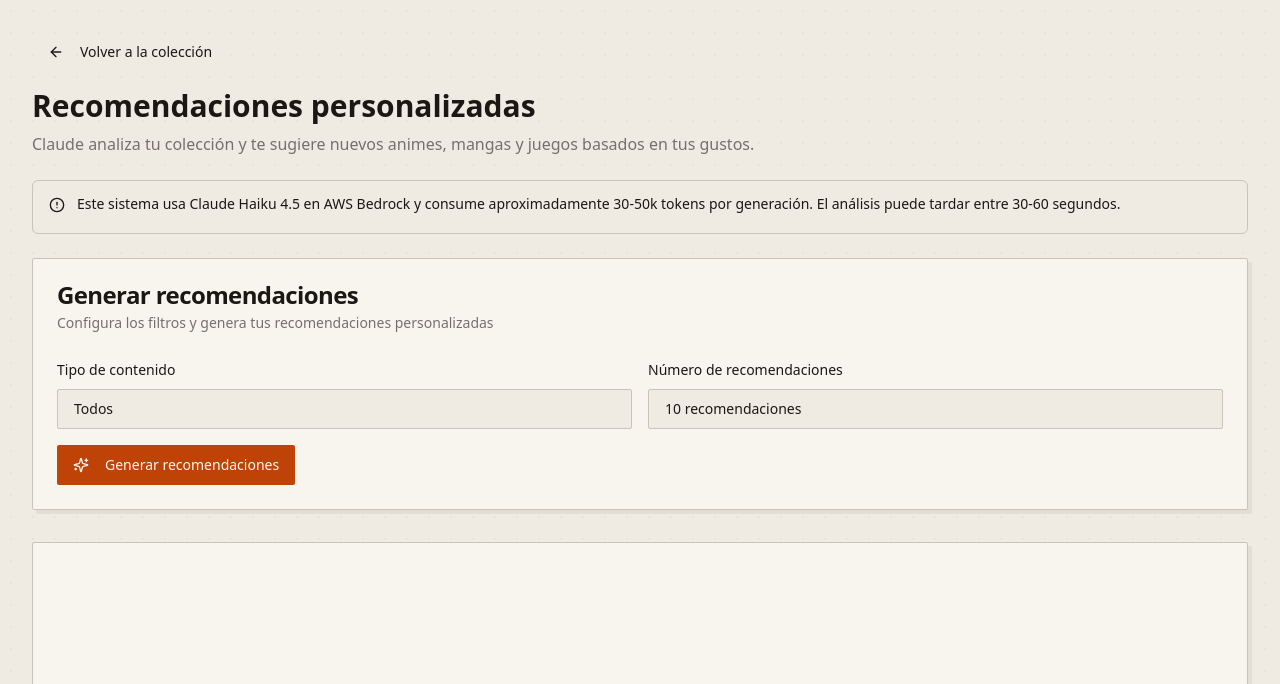
RecommendationsPage › success state renderiza grid + metadata
This screenshot has width=1280, height=684.
Click the button "Generar recomendaciones" at (176, 465), box [57,445,295,485]
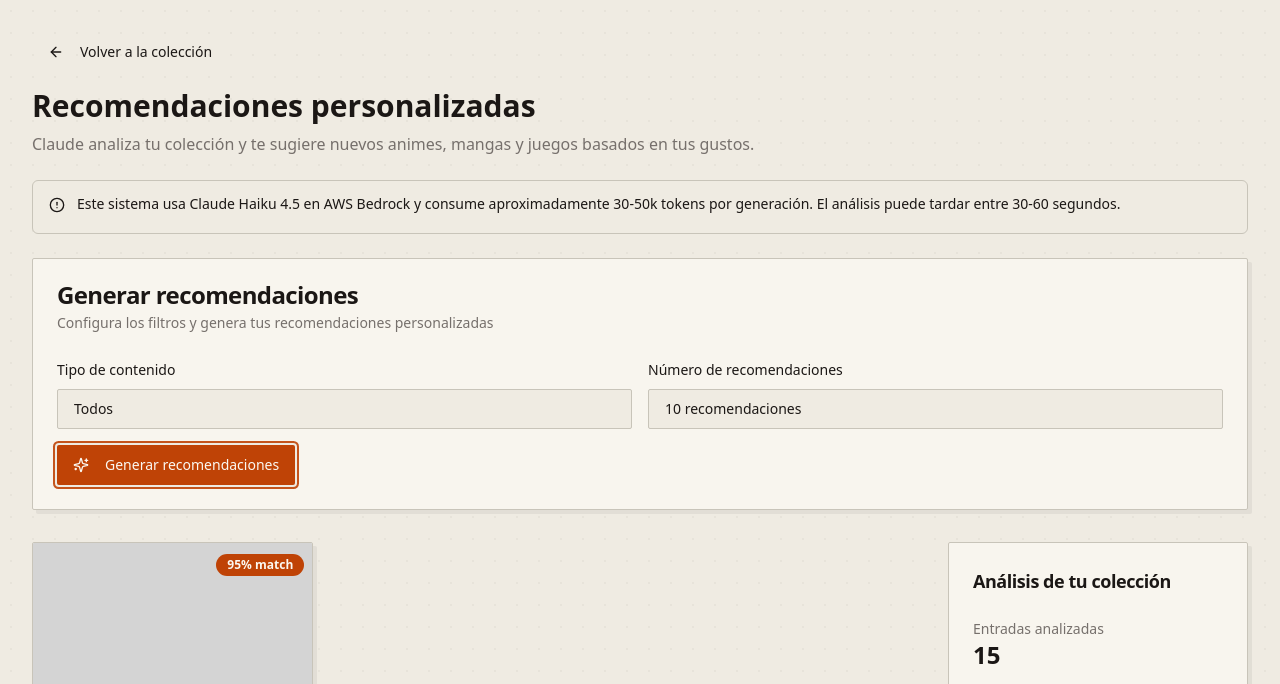
Expected: the text "Análisis de tu colección" is shown, [973,569,1171,593]
Expected: the text "15" is shown, [973,638,1000,671]
